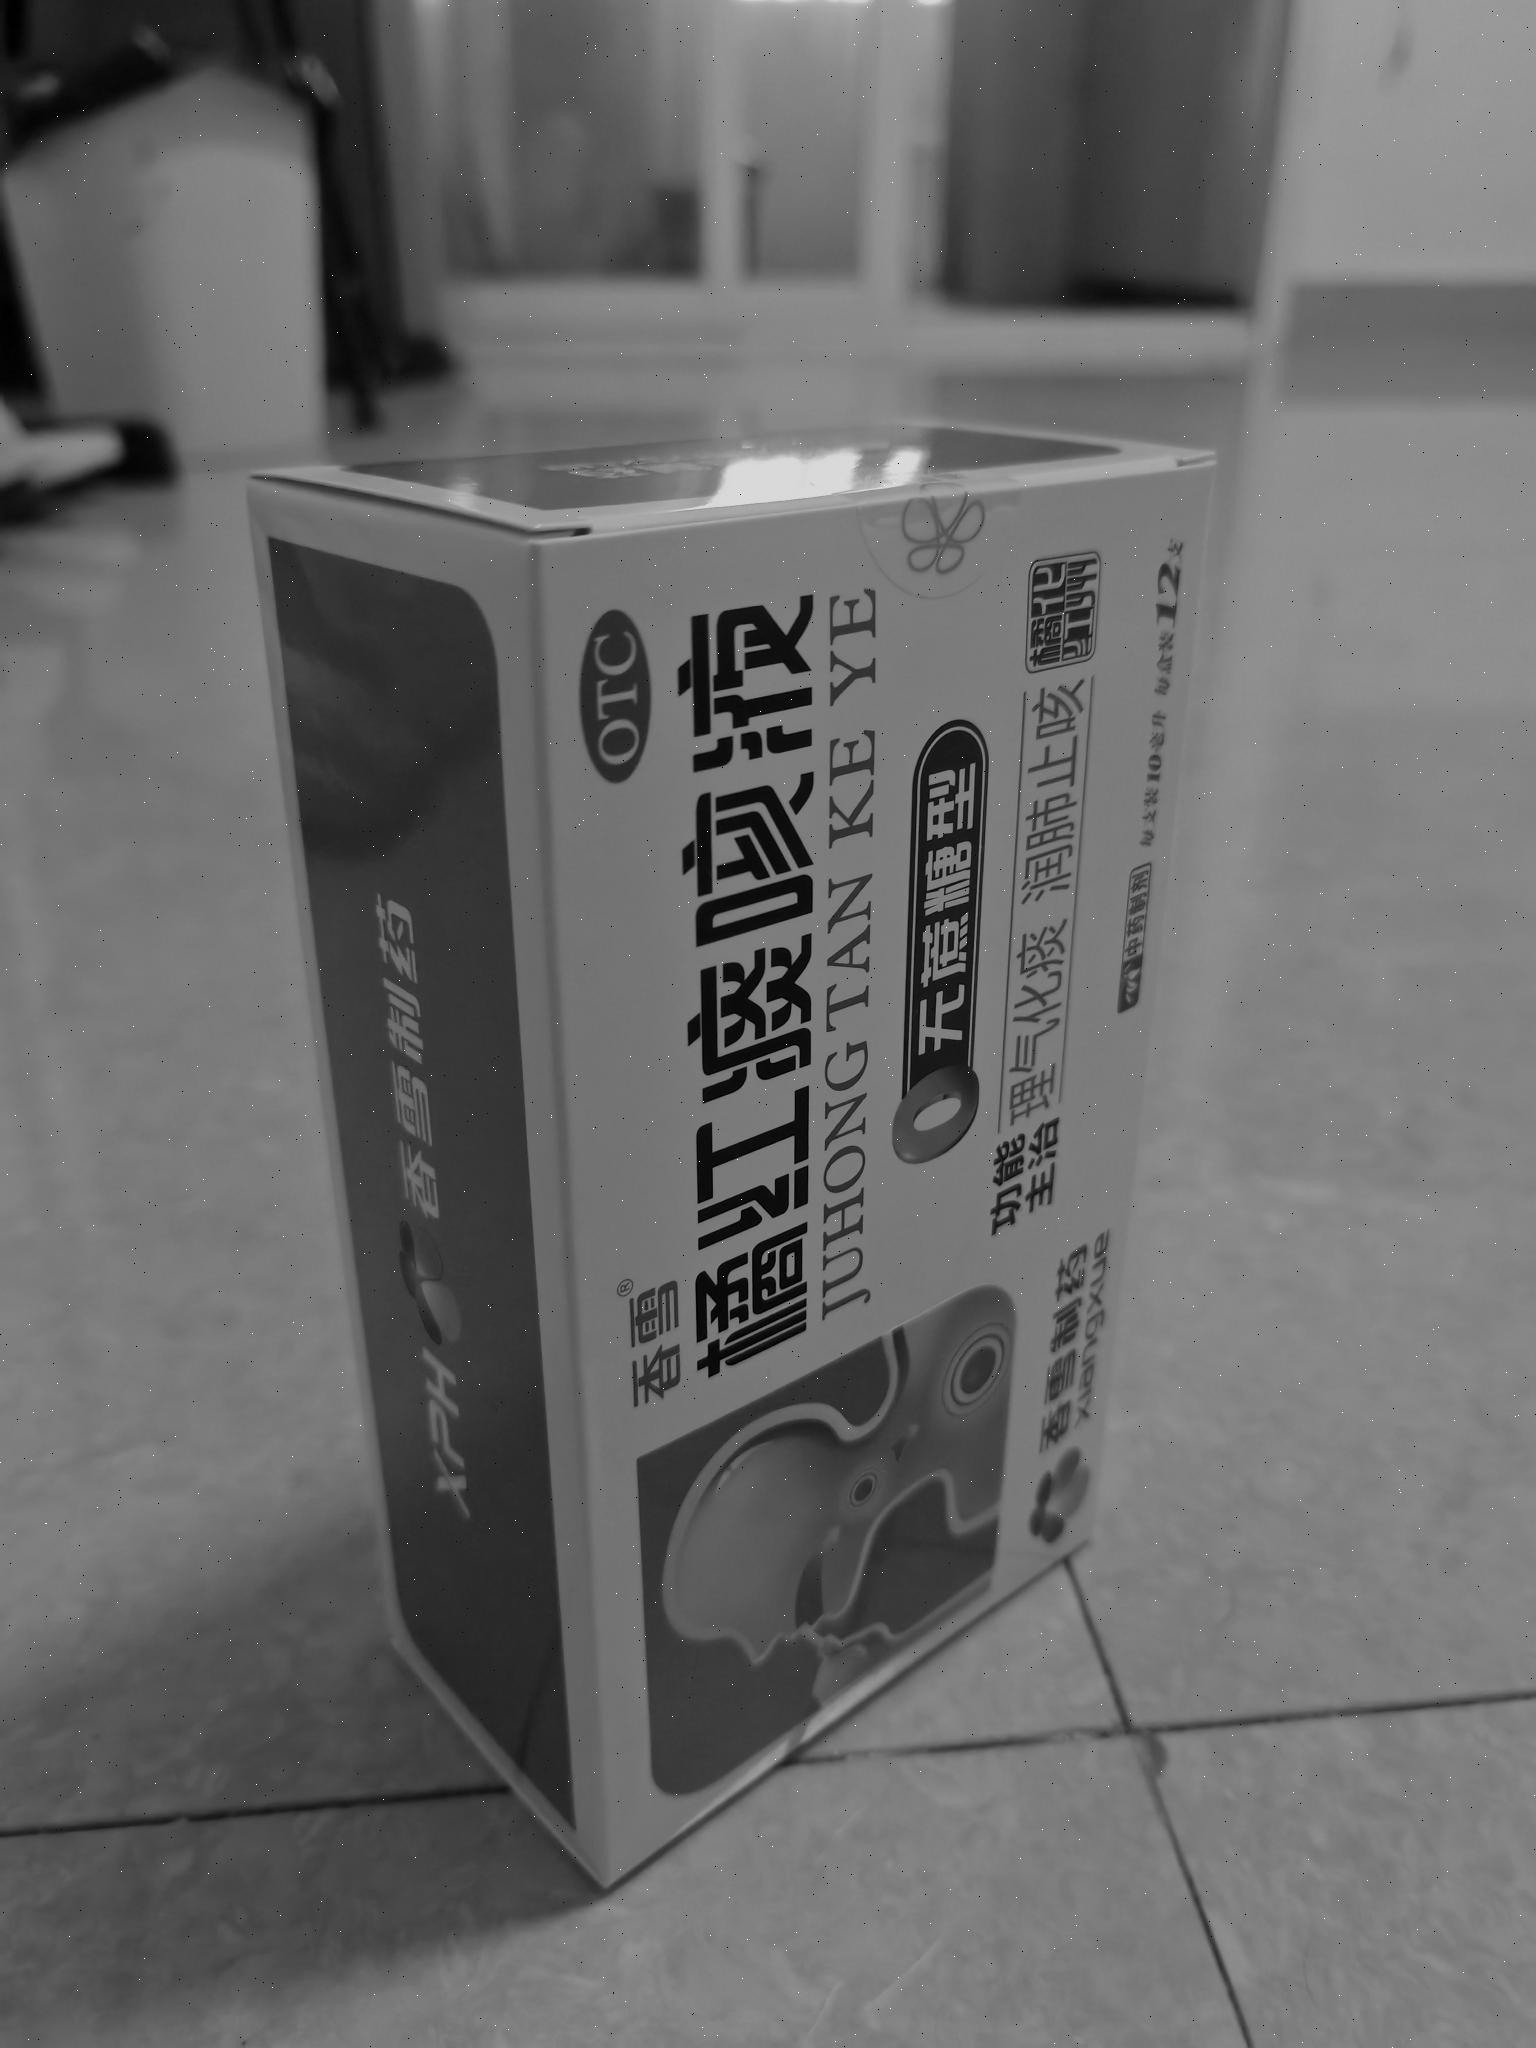Medicine1: (224, 397, 1239, 1908)
